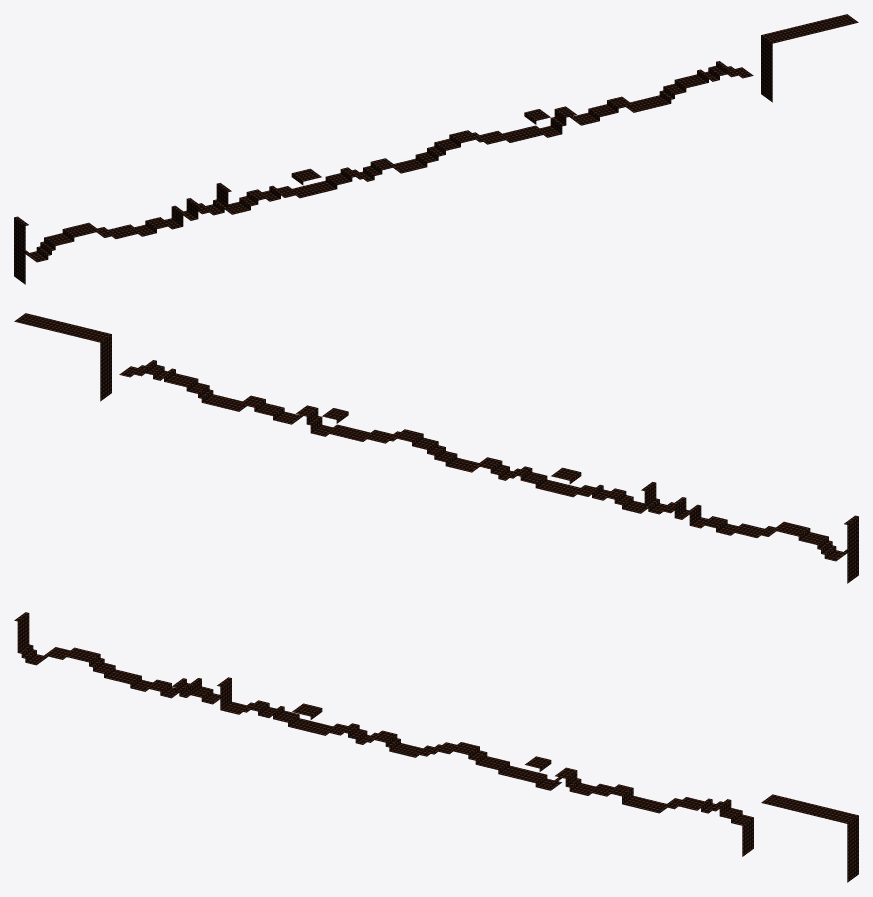
Rendered from Luna2Rachadura06.glb.
The picture shows the model from 3 angles, top to bottom: view 1: azimuth 30°, elevation 25°; view 2: azimuth 150°, elevation 25°; view 3: azimuth 330°, elevation 25°; orthographic projection.
Parts seen in each view (by area): view 1: Setor_1, Setor_4, Setor_6, Setor_2, Setor_5, Setor_3, Setor_0, Setor_-1; view 2: Setor_1, Setor_4, Setor_6, Setor_2, Setor_5, Setor_3, Setor_0, Setor_-1; view 3: Setor_6, Setor_0, Setor_4, Setor_2, Setor_1, Setor_5, Setor_3.
Boxes of the visible parts, x1=… form: Setor_1: x1=135, y1=183, x2=265, y2=235; Setor_4: x1=495, y1=98, x2=625, y2=142; Setor_6: x1=735, y1=14, x2=858, y2=102; Setor_2: x1=254, y1=161, x2=385, y2=201; Setor_5: x1=615, y1=61, x2=745, y2=112; Setor_3: x1=375, y1=130, x2=505, y2=173; Setor_0: x1=14, y1=216, x2=145, y2=262; Setor_-1: x1=14, y1=217, x2=25, y2=284; Setor_1: x1=607, y1=482, x2=737, y2=534; Setor_4: x1=247, y1=397, x2=377, y2=441; Setor_6: x1=14, y1=313, x2=137, y2=401; Setor_2: x1=487, y1=460, x2=618, y2=500; Setor_5: x1=127, y1=360, x2=257, y2=411; Setor_3: x1=367, y1=429, x2=497, y2=472; Setor_0: x1=727, y1=515, x2=858, y2=561; Setor_-1: x1=847, y1=516, x2=858, y2=583; Setor_6: x1=735, y1=794, x2=858, y2=882; Setor_0: x1=14, y1=612, x2=145, y2=688; Setor_4: x1=495, y1=756, x2=625, y2=796; Setor_2: x1=254, y1=702, x2=385, y2=744; Setor_1: x1=134, y1=677, x2=265, y2=714; Setor_5: x1=615, y1=786, x2=745, y2=823; Setor_3: x1=375, y1=731, x2=505, y2=769.
Size of the model in its own units: 231 by 15.6 by 5.6.
Materials: 1 (1 with a texture image).
